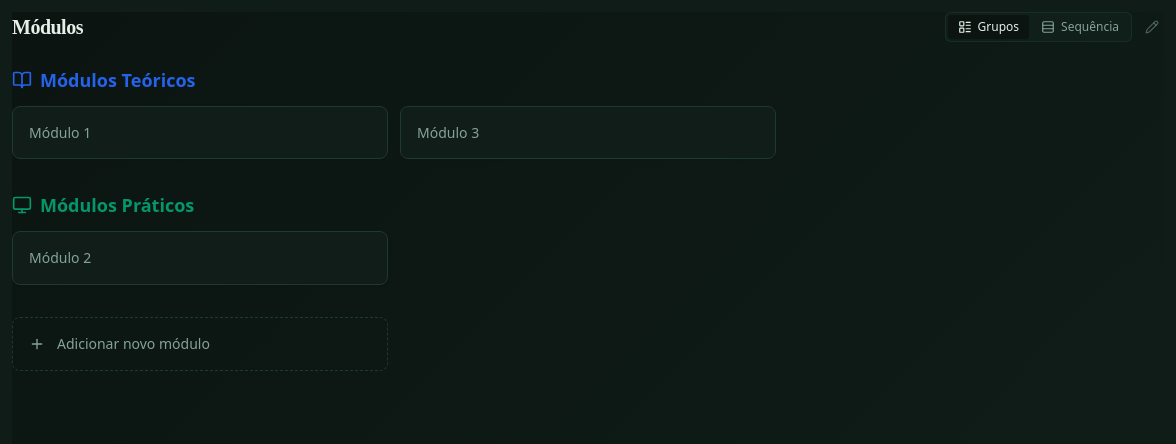
Test: adding a module › stays on the page and says so when the server refuses
The width and height of the screenshot is (1176, 444).
What coordinates should you click on to do the following:
click the button "Adicionar novo módulo"
I would click on:
 (200, 344)
Its box is [12, 316, 388, 370].
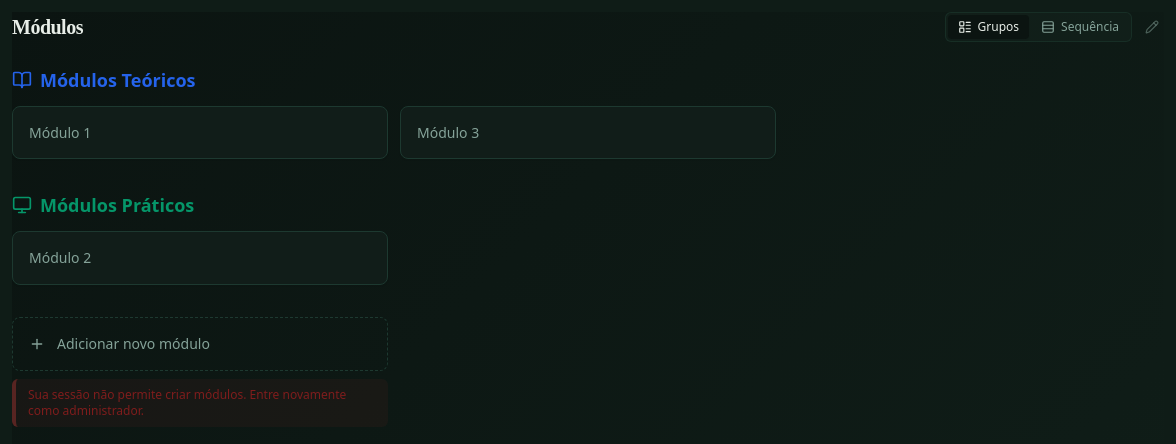
Now the message shows "sessão", box [28, 386, 346, 418]
